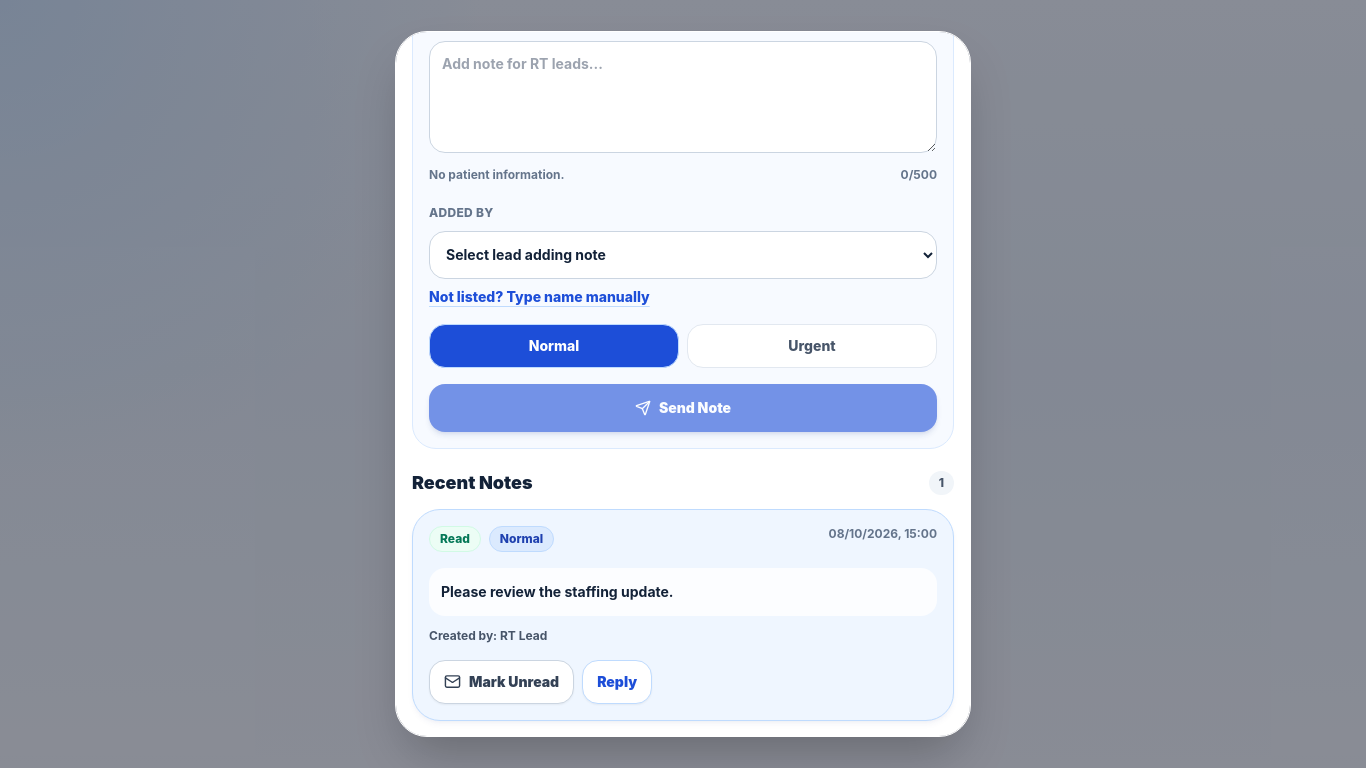
it: Lead Communication shared read state and replies › allows a lead to reply to a self-authored note
This screenshot has width=1366, height=768.
(page scrolled)
expect the text "Please review the staffing update." is shown: met, box [429, 568, 937, 616]
Click the button "Reply": (617, 682) [582, 660, 652, 704]
(page scrolled)
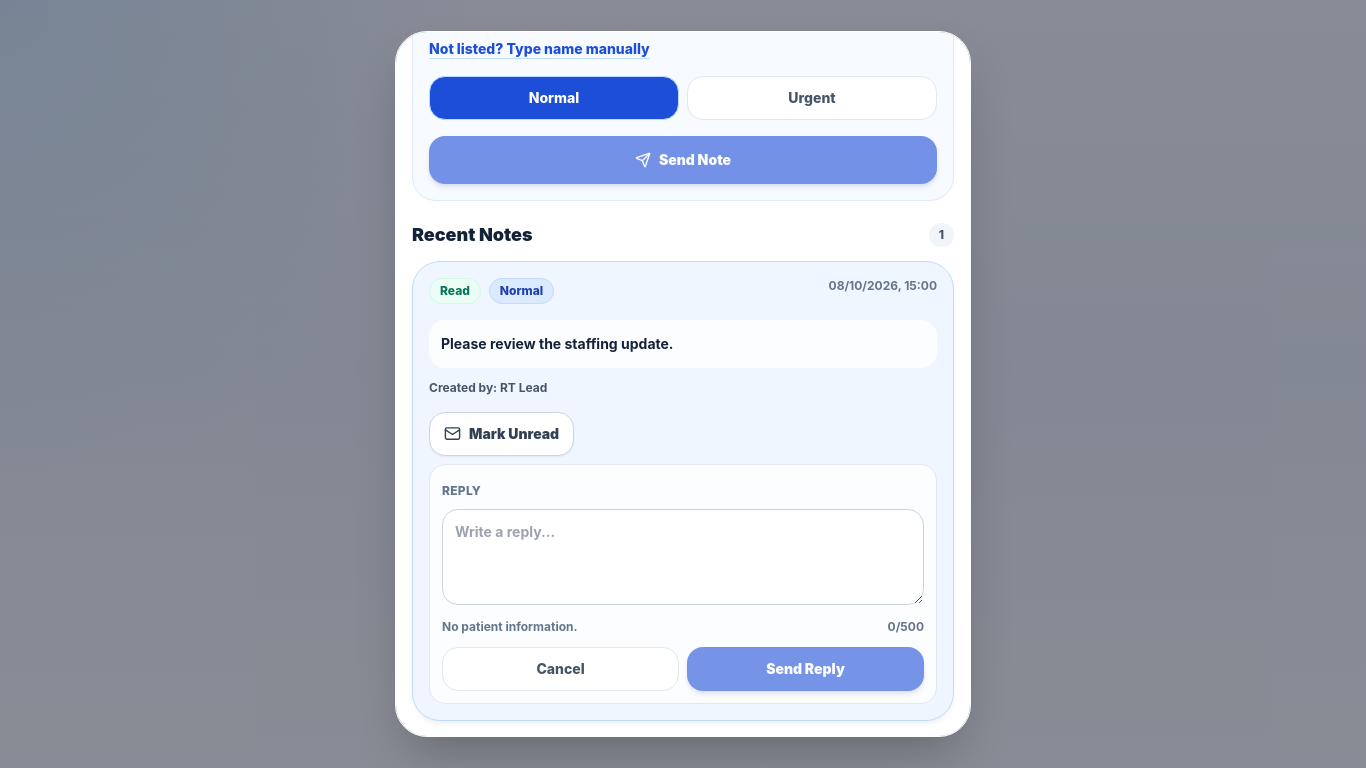
In the text box with placeholder "Write a reply...": (683, 557) [442, 509, 924, 605], type "Reply for the team"
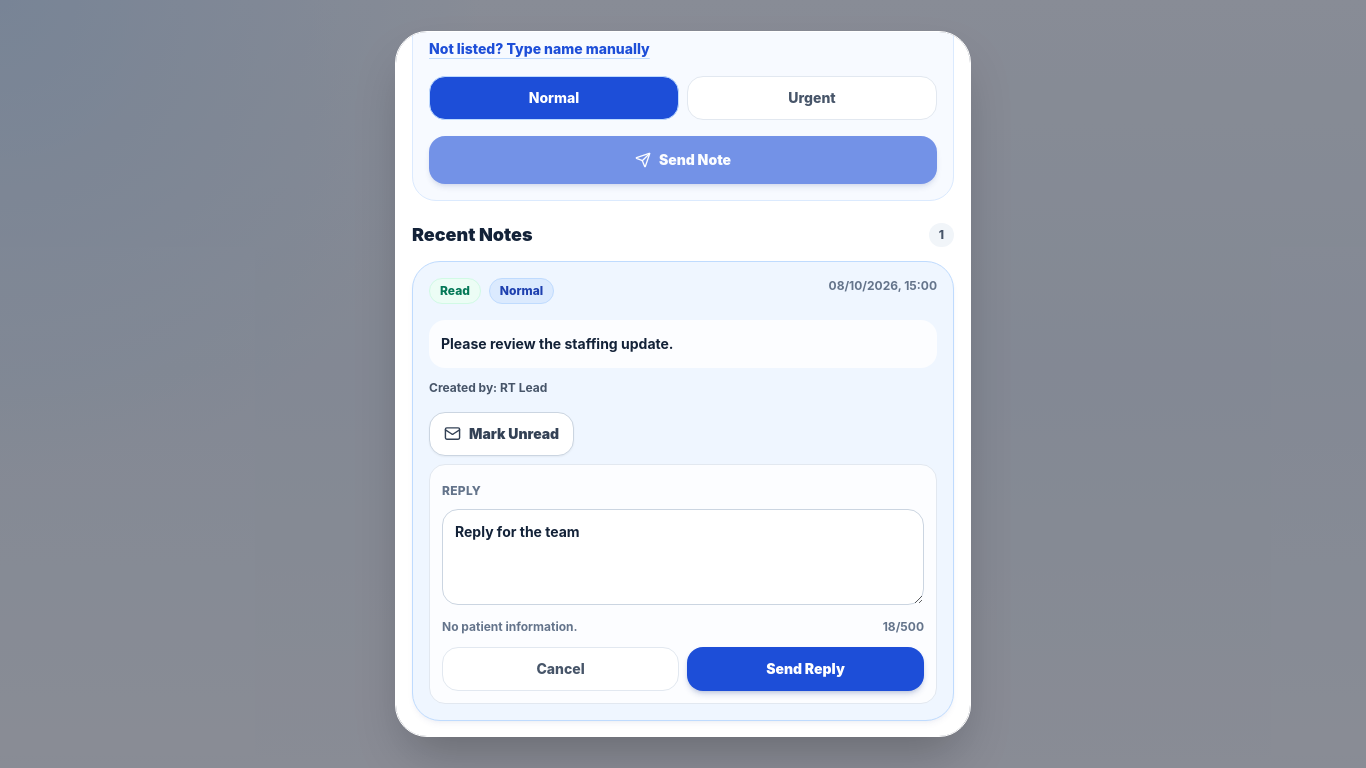
Click the button "Send Reply": (806, 669) [687, 647, 924, 691]
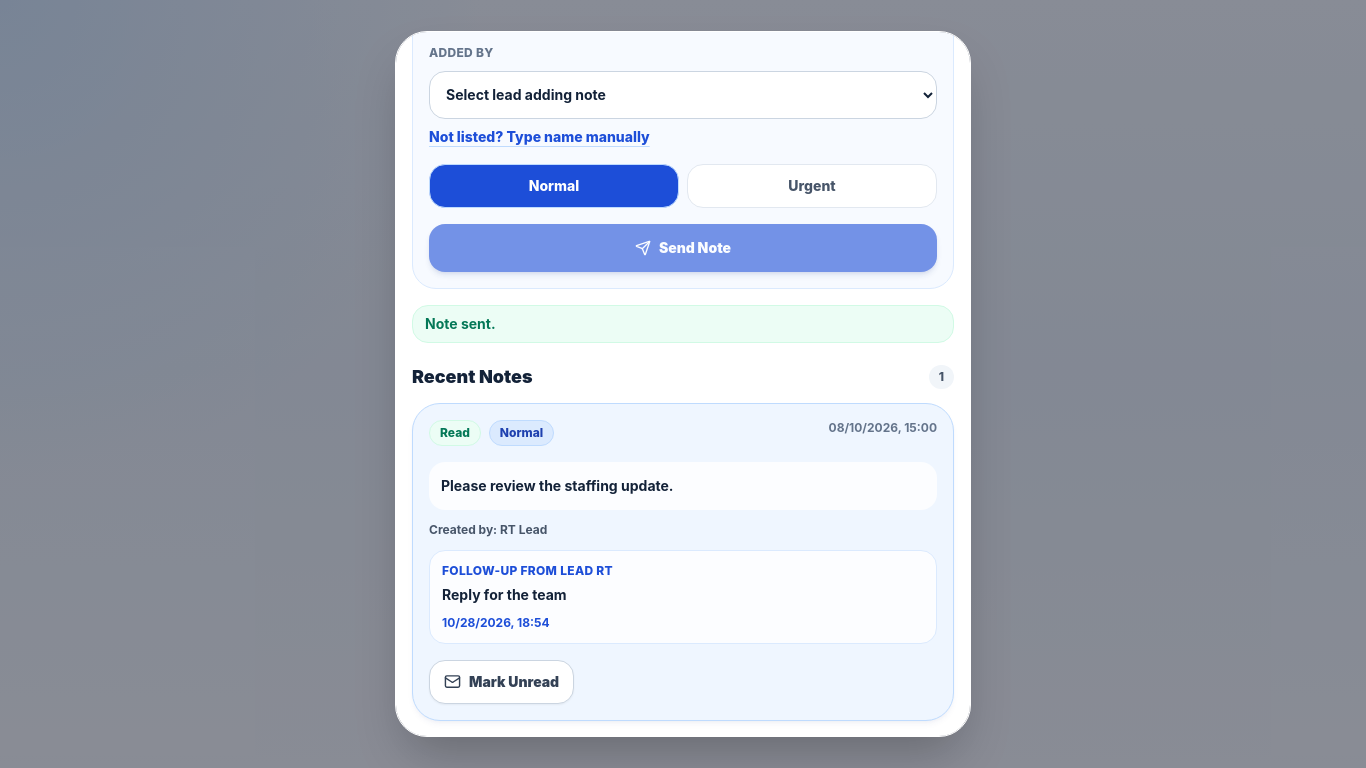
expect the text "Reply for the team" is shown: met, box [442, 586, 567, 603]
